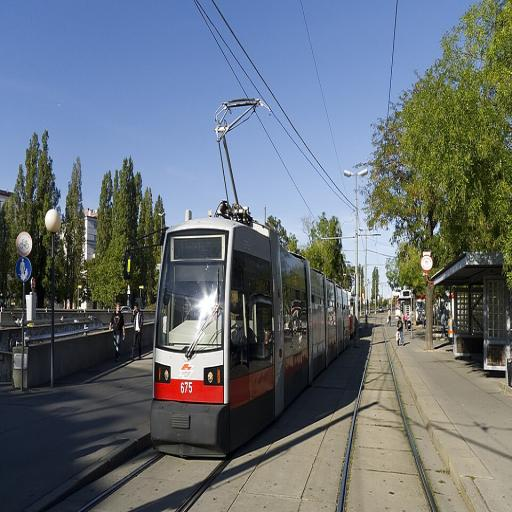ULF: (147, 214, 357, 464)
